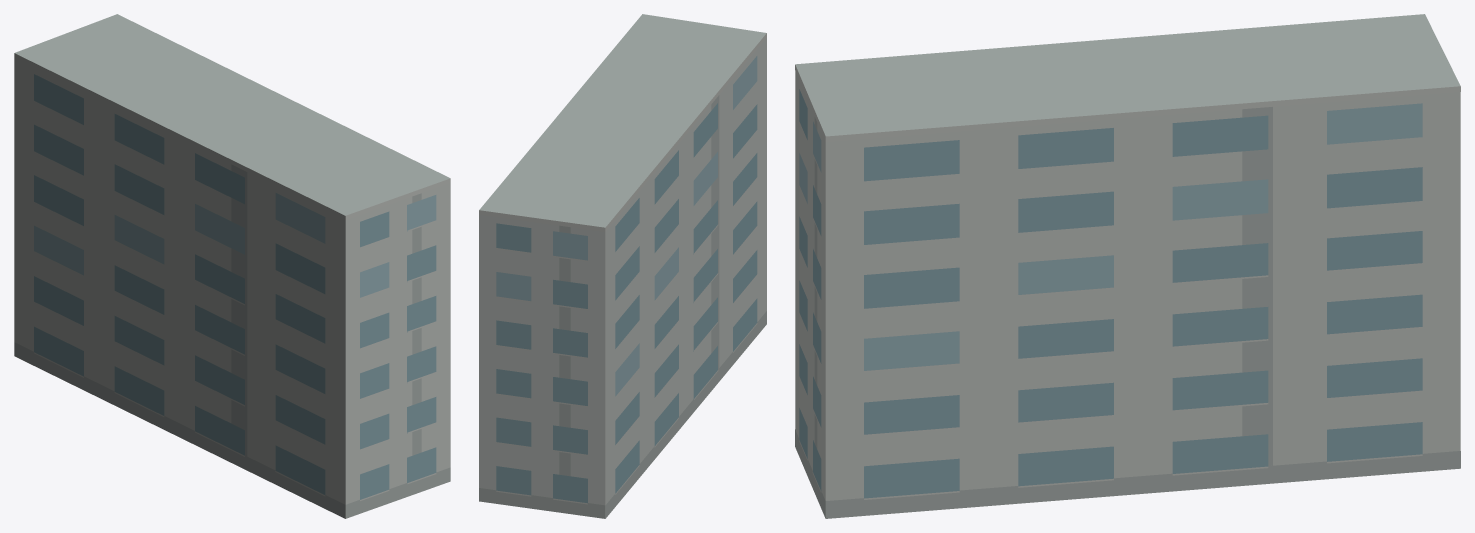
Rendered from survey-upis-32798686.glb.
3 renders of one model, left to right at view 1: azimuth 30°, elevation 25°; view 2: azimuth 150°, elevation 25°; view 3: azimuth 270°, elevation 25°, orthographic. The views are drawn at different scales.
Visible parts, largest first — view 1: survey-upis-32798686.tmp; view 2: survey-upis-32798686.tmp; view 3: survey-upis-32798686.tmp.
Part boxes in pixels (x1,y1,x2,y2): survey-upis-32798686.tmp: [14, 14, 450, 518]; survey-upis-32798686.tmp: [479, 14, 766, 518]; survey-upis-32798686.tmp: [795, 14, 1460, 518].
Bounding box in the file's own units: 11.21 × 16.3 × 25.73.
